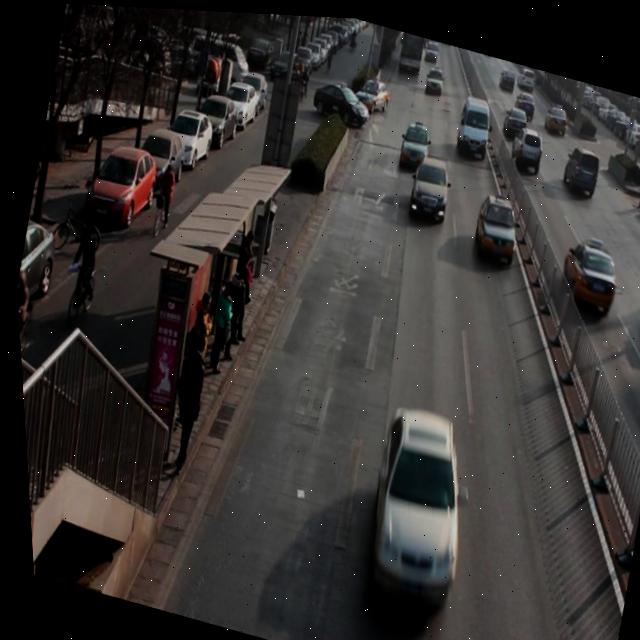car: (340, 398, 487, 619), (553, 228, 623, 310), (466, 186, 523, 264), (401, 148, 456, 225), (557, 137, 604, 197), (392, 112, 433, 168), (506, 117, 546, 169), (356, 67, 395, 114), (497, 96, 530, 135), (540, 94, 572, 133), (512, 85, 538, 115), (422, 61, 445, 91), (635, 267, 640, 348)
truck: (448, 89, 496, 155)
